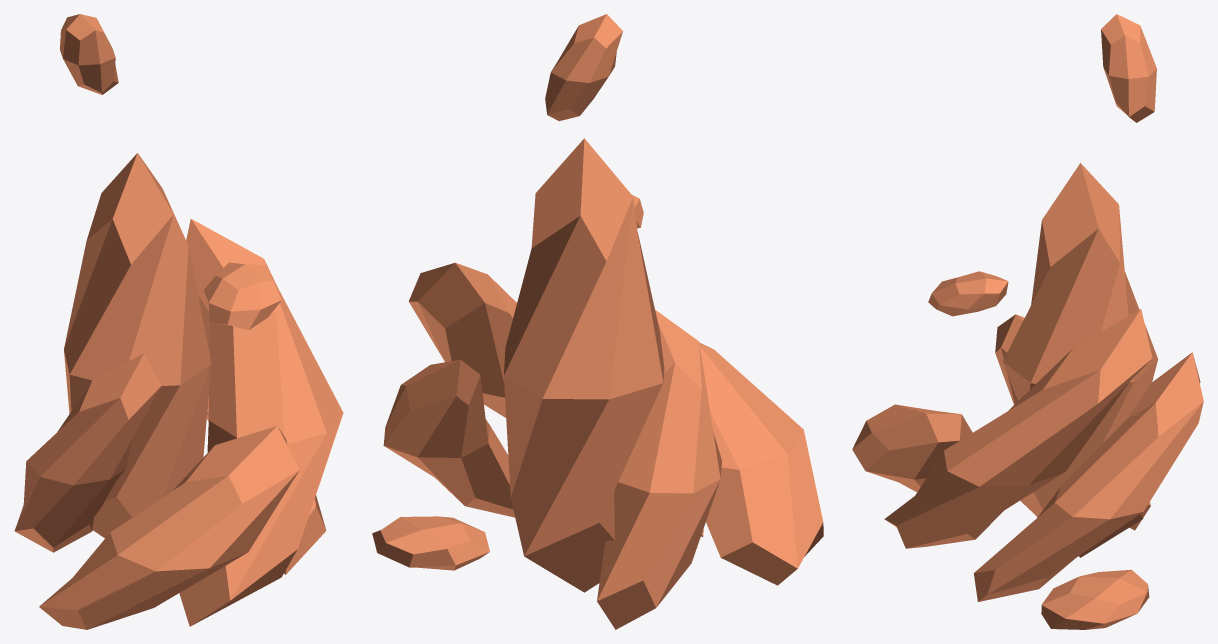
File: rock06.fbx
3 views of the same model, side by side, from view 1: azimuth 30°, elevation 25°; view 2: azimuth 150°, elevation 25°; view 3: azimuth 270°, elevation 25° (orthographic). The views are drawn at different scales.
Visible parts, largest first — view 1: rock_06; view 2: rock_06; view 3: rock_06.
Part boxes in pixels (x1=…): rock_06: x1=14, y1=14, x2=343, y2=629; rock_06: x1=372, y1=14, x2=823, y2=629; rock_06: x1=852, y1=14, x2=1203, y2=629.
Bounding box in the file's own units: 2.59 × 4.17 × 2.52.
1 material, 1 textured.
